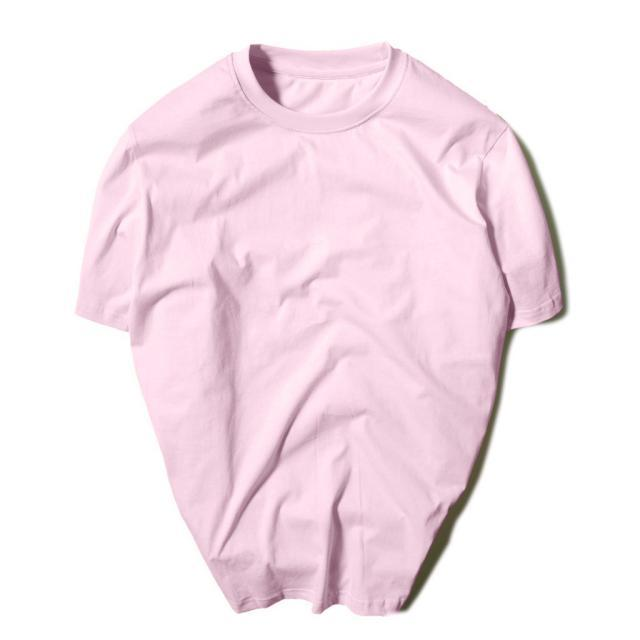Shirt: (67, 42, 571, 626)
